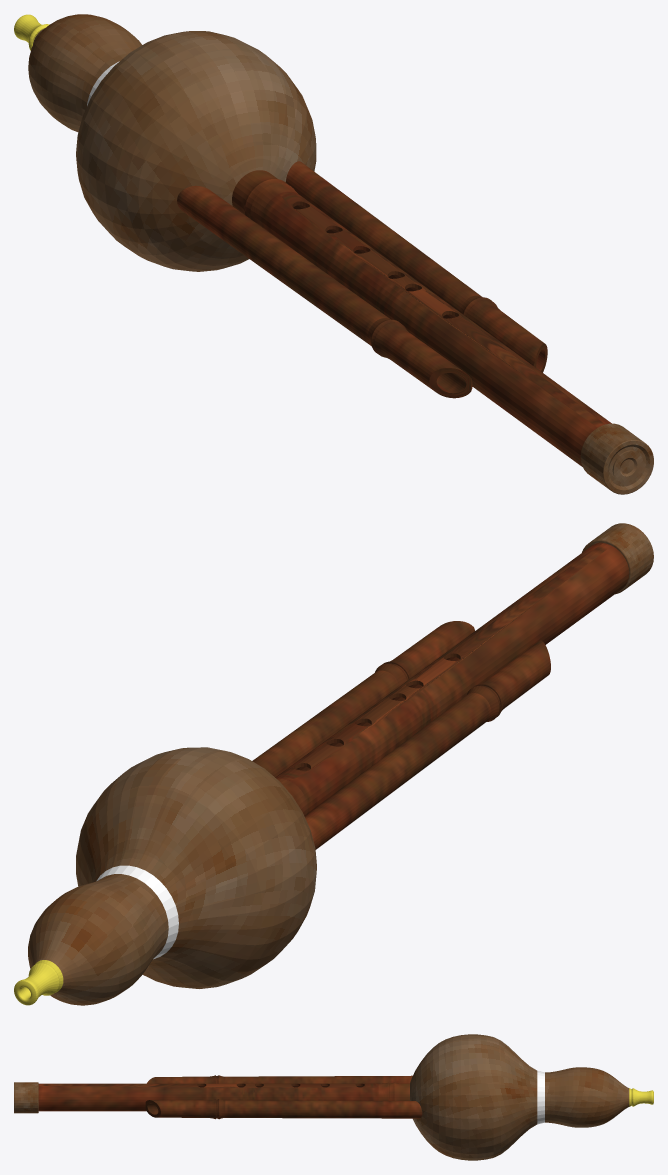
File: hulusi.gltf
3 views of the same model, one above another, from view 1: azimuth 30°, elevation 25°; view 2: azimuth 150°, elevation 25°; view 3: azimuth 270°, elevation 25° (orthographic). The views are drawn at different scales.
Size of the model in its own units: 52.85 by 52.91 by 268.
Materials: 6 (4 with a texture image).
